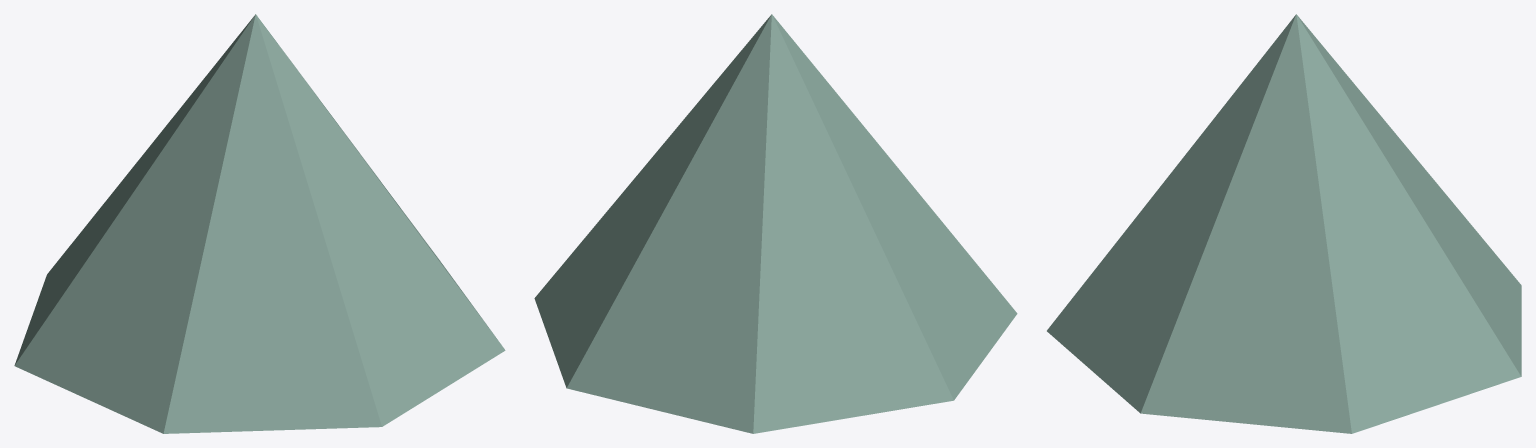
File: hill-8caaa0.glb
3 renders of one model, left to right at view 1: azimuth 30°, elevation 25°; view 2: azimuth 150°, elevation 25°; view 3: azimuth 270°, elevation 25°, orthographic.
Visible parts, largest first — view 1: hill-8caaa0; view 2: hill-8caaa0; view 3: hill-8caaa0.
Boxes of the visible parts, x1=… form: hill-8caaa0: x1=14, y1=14, x2=505, y2=433; hill-8caaa0: x1=534, y1=14, x2=1017, y2=433; hill-8caaa0: x1=1047, y1=14, x2=1521, y2=433.
Size of the model in its own units: 1.95 by 1.4 by 1.9.
